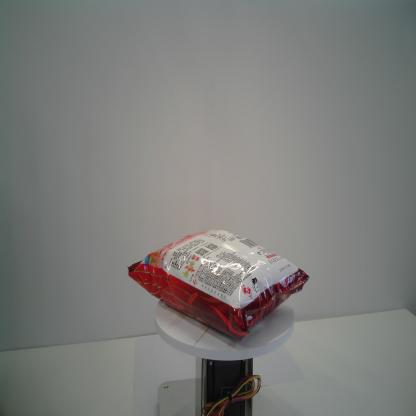Puffed Food: (127, 228, 310, 342)
